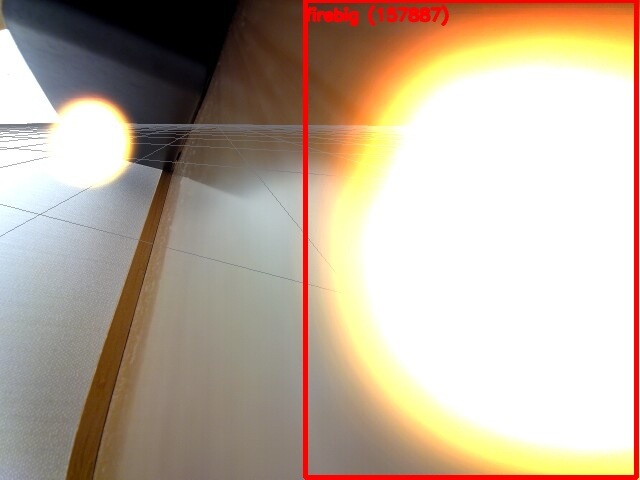firebig: (305, 0, 636, 477)
